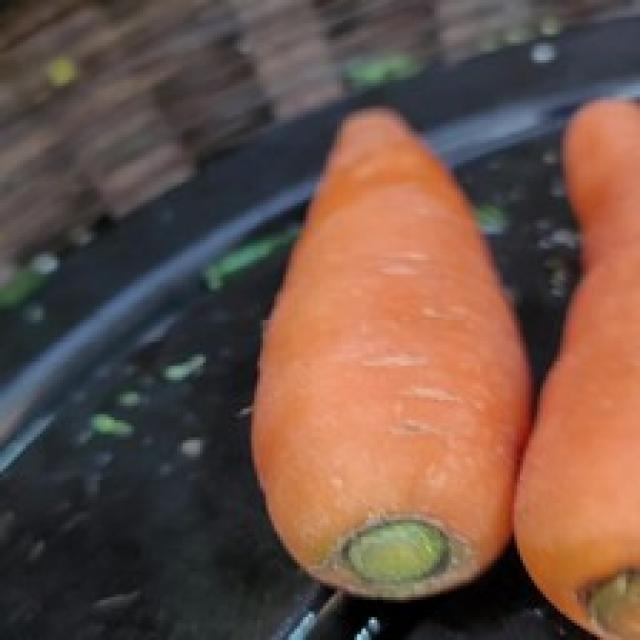carrot: (242, 89, 534, 602), (519, 85, 638, 640)
